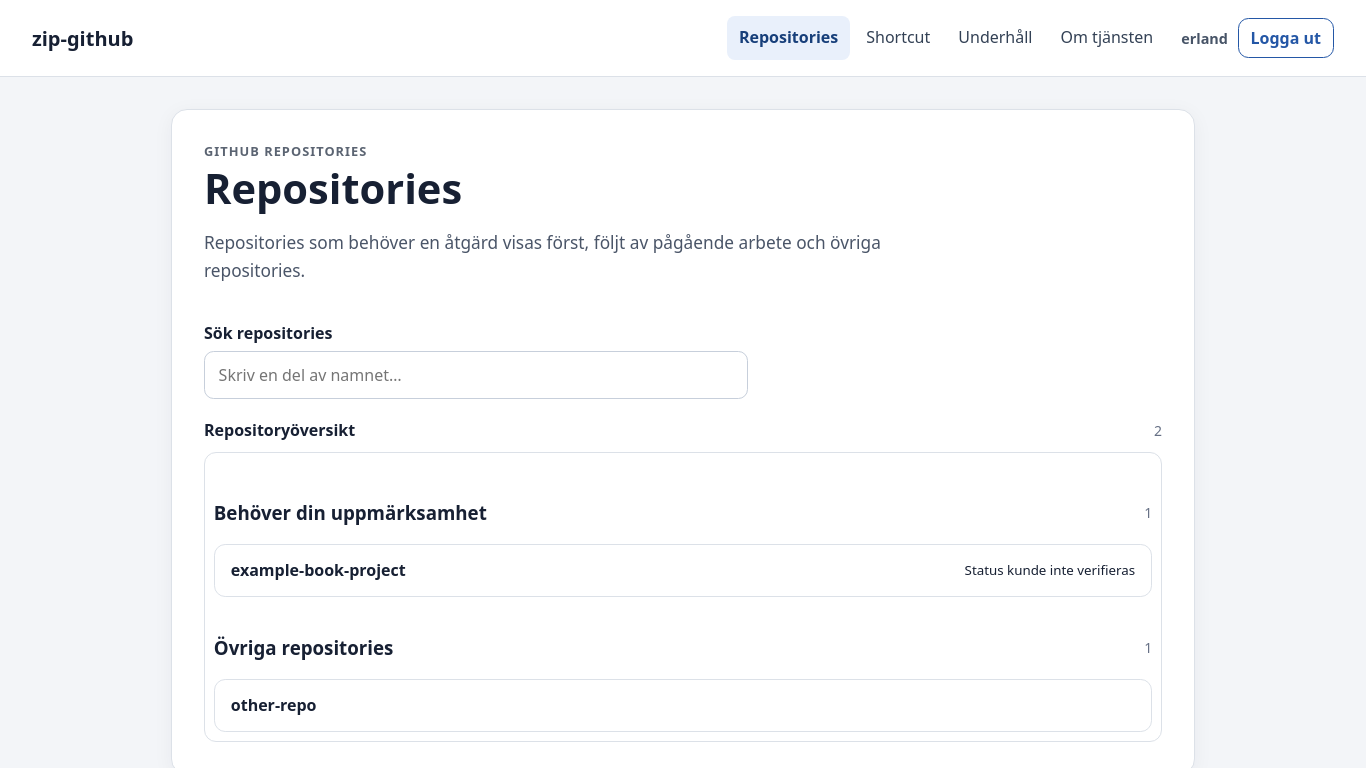
Scenario: App routing and authentication › lists GitHub App repositories and filters them by partial name
The width and height of the screenshot is (1366, 768).
Check: the heading "Repositories" is shown, box [204,160,462,216]
Check: the link "example-book-project Status kunde inte verifieras" is shown, box [214,544,1152,597]
Type "other" into the search field labelled "Sök repositories" at (476, 375), box [204,351,748,399]
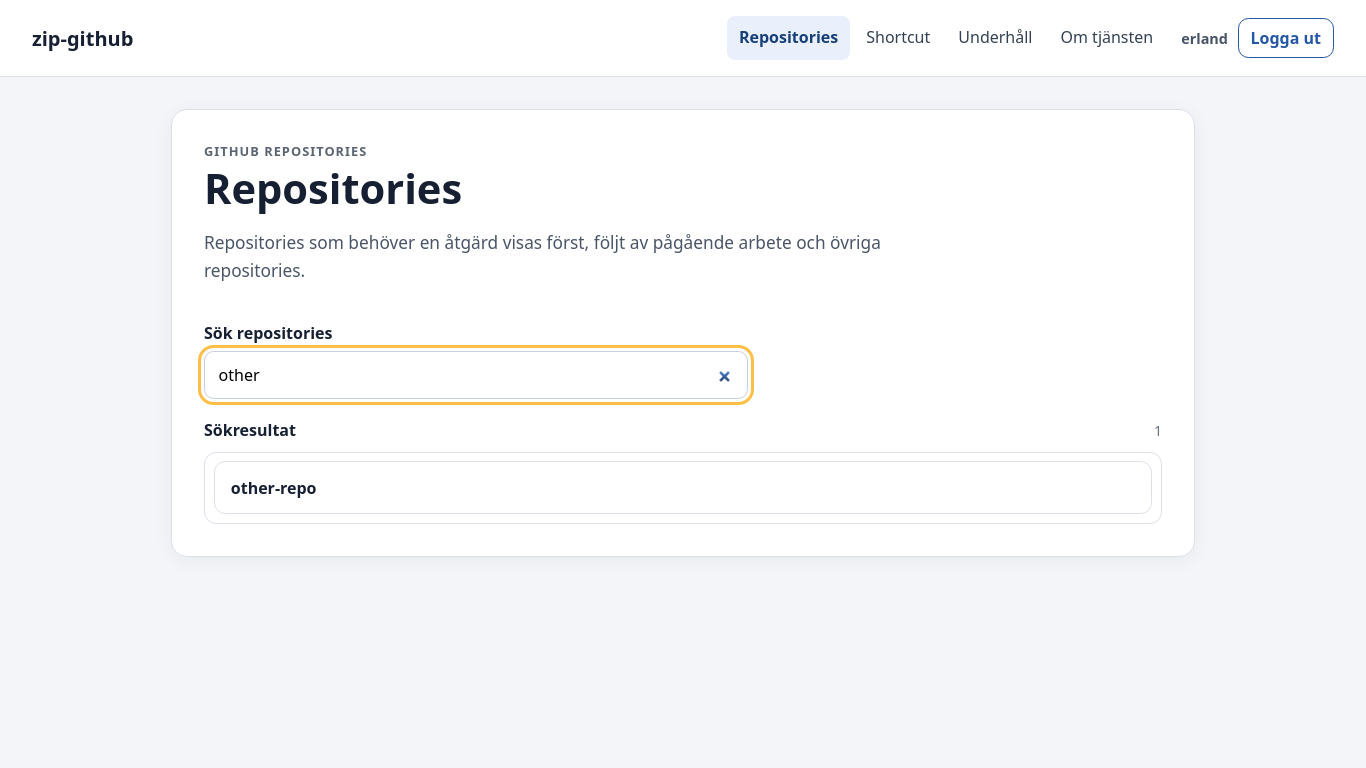
Check: the link "other-repo" is shown, box [214,461,1152,514]
Check: the link "example-book-project" is gone
